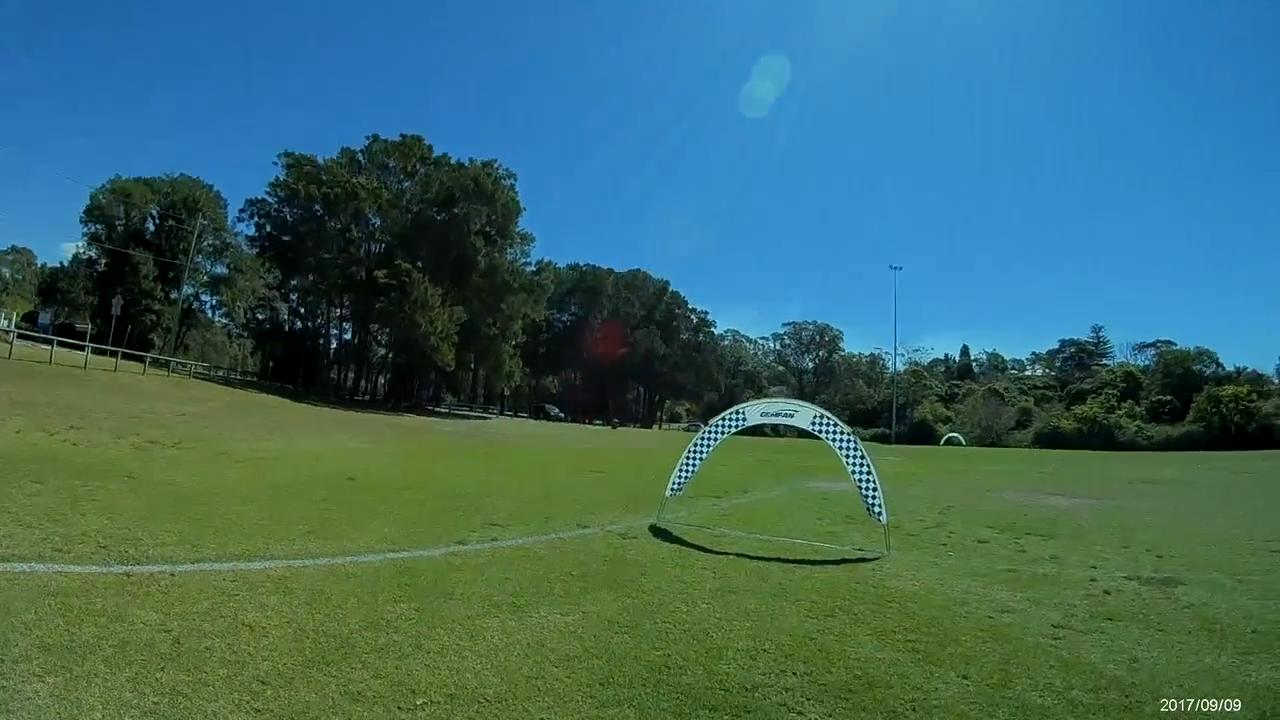gate: (665, 397, 887, 523), (941, 431, 967, 449)
